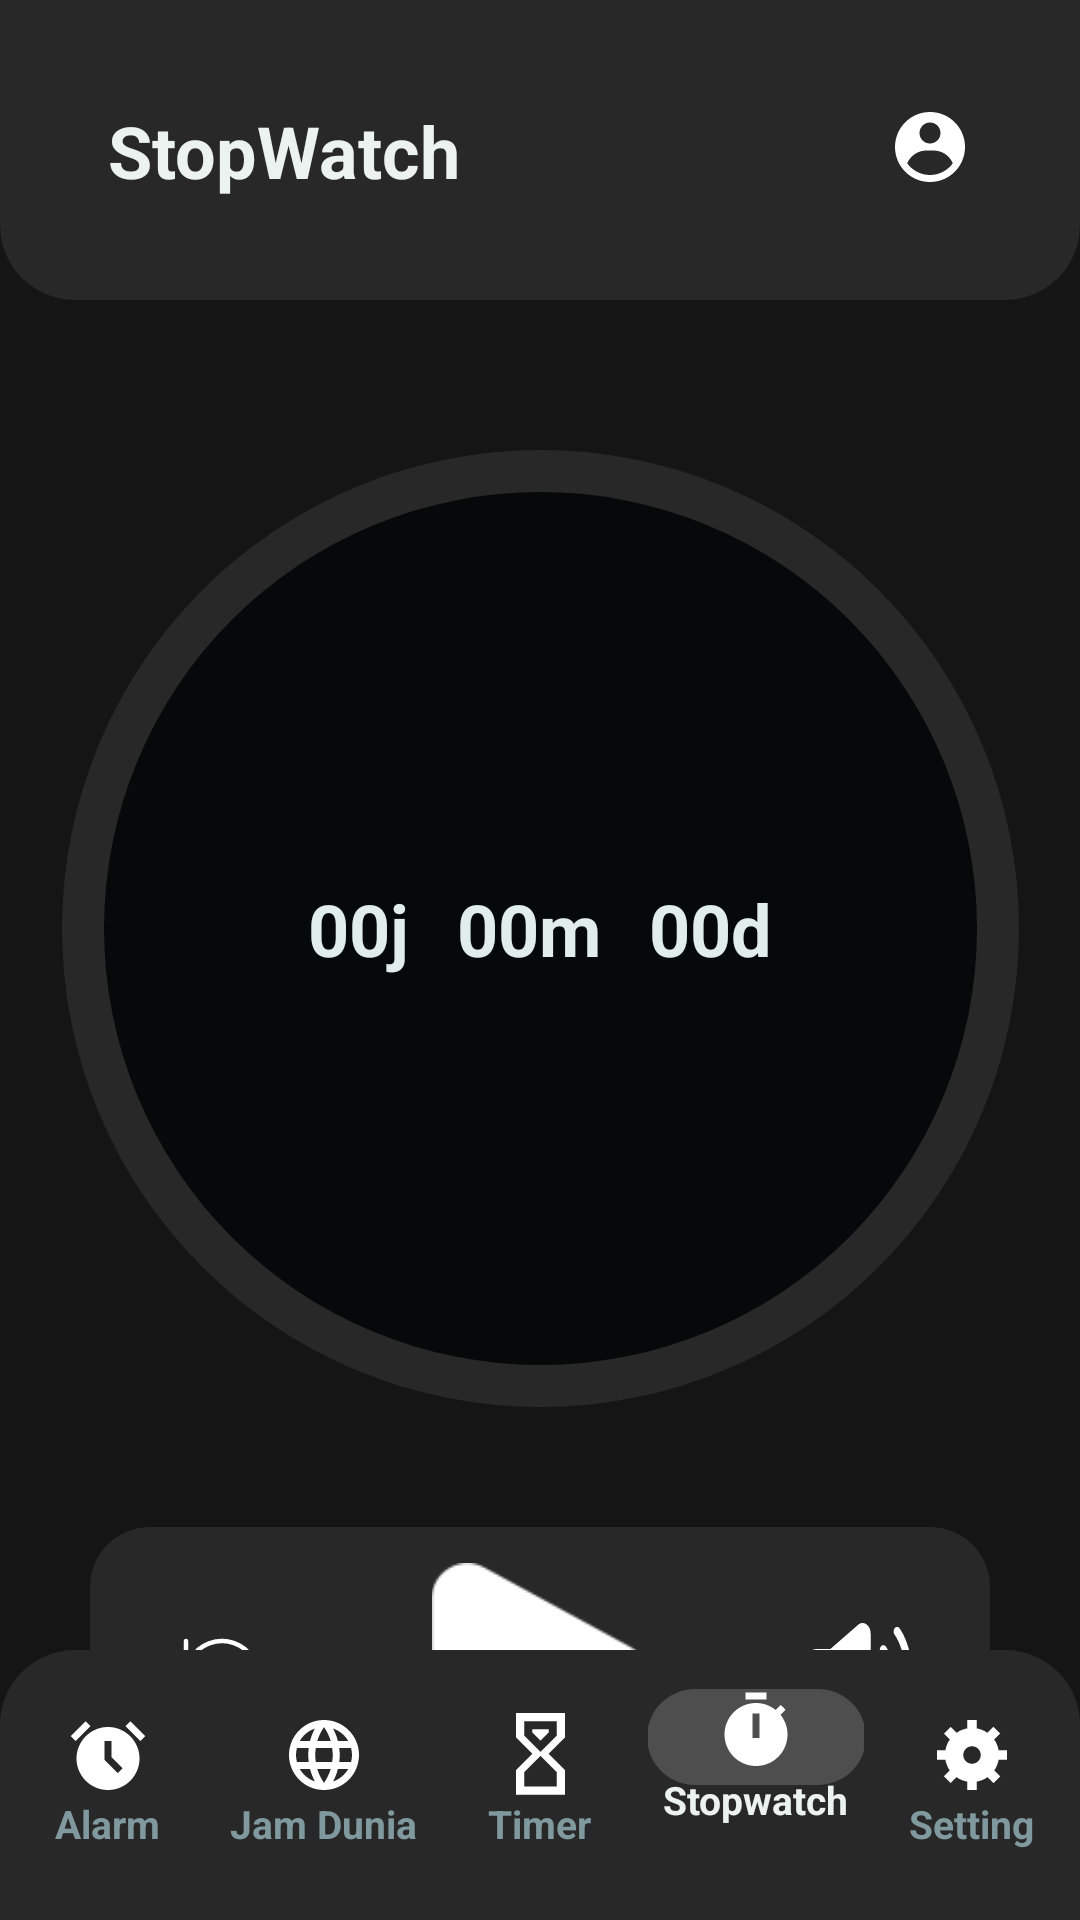

Where icons sit on this 1080px×1920px app screen, as (x1, y1, x2, y2):
profile: (895, 112, 965, 182)
